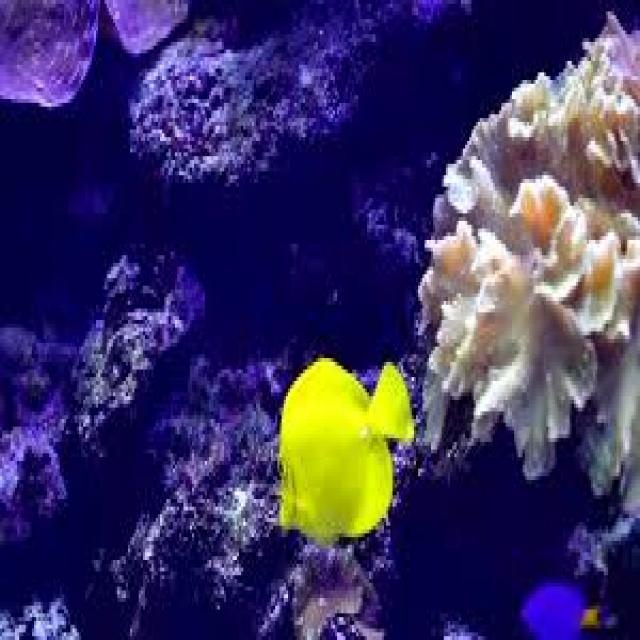YellowTang: (260, 333, 415, 564)
